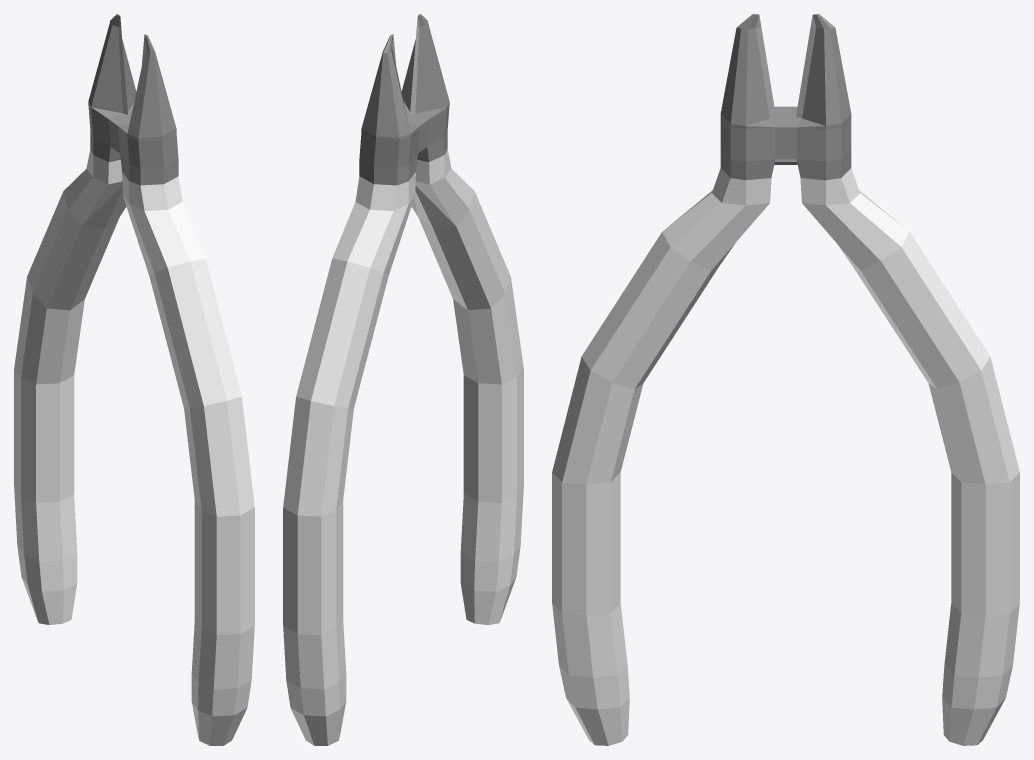
File: cutter01.gltf
The picture shows the model from 3 angles, left to right: view 1: azimuth 30°, elevation 25°; view 2: azimuth 150°, elevation 25°; view 3: azimuth 270°, elevation 25°; orthographic projection. The views are drawn at different scales.
Visible parts, largest first — view 1: Cylinder; view 2: Cylinder; view 3: Cylinder.
Part boxes in pixels (left/top/right/bottom): Cylinder: left=14, top=14, right=254, bottom=745; Cylinder: left=283, top=14, right=523, bottom=745; Cylinder: left=552, top=14, right=1019, bottom=745.
Bounding box in the file's own units: 0.00825 × 0.107 × 0.0626.
1 material, 1 textured.
